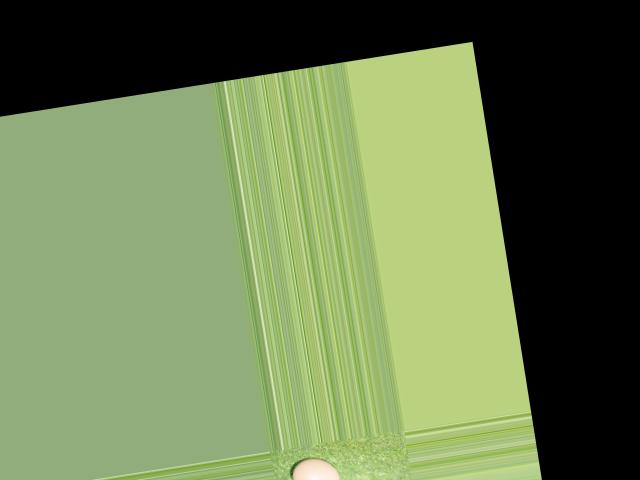egg: (290, 453, 342, 480)
